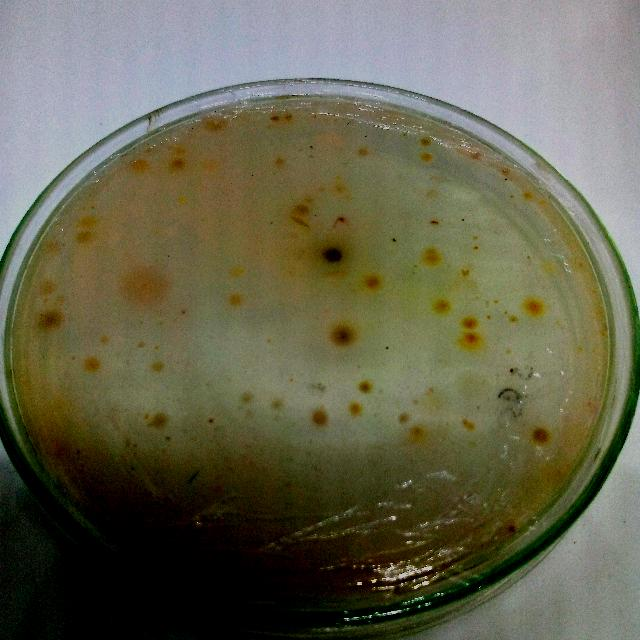colony: (119, 262, 171, 310), (196, 108, 236, 142), (236, 546, 270, 578), (326, 320, 360, 350), (316, 242, 348, 266), (36, 305, 64, 331), (284, 214, 314, 232), (310, 407, 332, 429), (148, 412, 172, 432), (422, 246, 443, 268), (82, 354, 105, 374), (74, 230, 98, 247), (530, 426, 550, 446), (362, 272, 384, 290), (356, 378, 376, 396), (226, 264, 248, 280), (430, 298, 452, 314), (346, 399, 364, 418), (409, 423, 427, 441), (293, 200, 313, 216), (462, 330, 482, 346), (460, 314, 480, 330), (356, 144, 372, 164), (225, 289, 242, 307), (80, 213, 98, 230), (172, 142, 190, 158), (149, 355, 165, 373), (132, 157, 150, 173), (525, 298, 543, 314), (240, 390, 256, 406), (424, 384, 441, 398), (170, 156, 186, 170), (418, 151, 434, 165), (398, 412, 412, 426), (418, 135, 432, 149), (174, 193, 190, 205), (458, 266, 474, 278), (272, 156, 286, 168), (408, 397, 422, 409), (283, 110, 295, 122), (270, 398, 282, 410), (162, 431, 174, 443), (99, 333, 111, 345), (282, 480, 294, 492), (134, 338, 146, 349), (268, 113, 280, 123), (335, 216, 347, 226), (142, 412, 152, 422), (472, 243, 482, 253), (508, 314, 518, 324), (432, 217, 442, 227), (522, 190, 534, 198), (464, 422, 474, 431), (482, 313, 493, 321), (206, 416, 214, 426), (180, 308, 190, 316), (460, 418, 470, 426), (491, 296, 499, 306), (152, 343, 160, 352), (459, 214, 467, 223), (287, 376, 295, 384), (502, 308, 510, 316), (390, 237, 398, 245), (306, 144, 316, 150), (384, 345, 391, 351)
